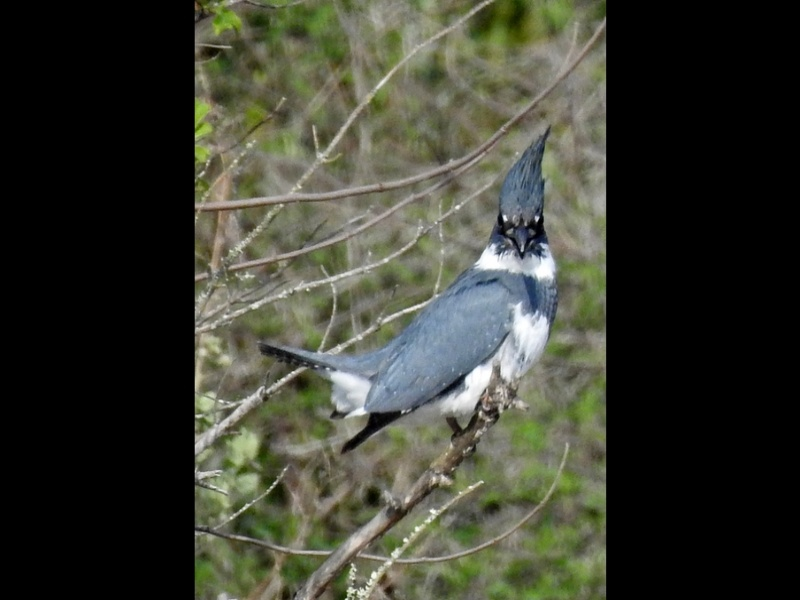kingfisher: (259, 122, 557, 455)
